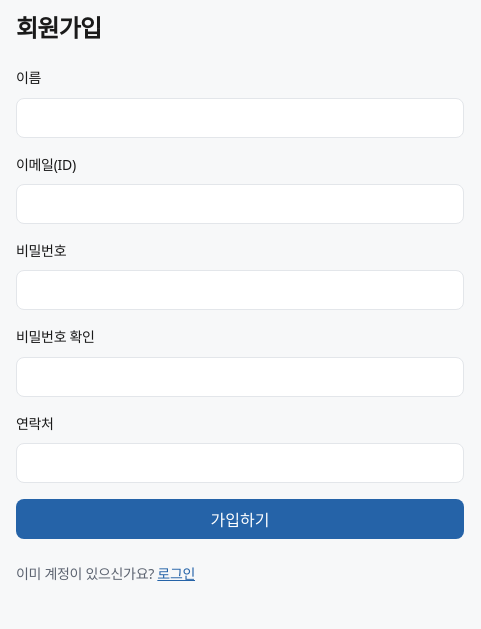
Test: 회원가입 폼 클라이언트 검증 › 이메일 형식이 틀리면 거부한다
This screenshot has width=481, height=629.
Step 1. Type "김색소" into the field labelled "이름" → (240, 118), box [16,98,464,138]
Step 2. Type "sax@example.com" into the field labelled "이메일(ID)" → (240, 204), box [16,184,464,224]
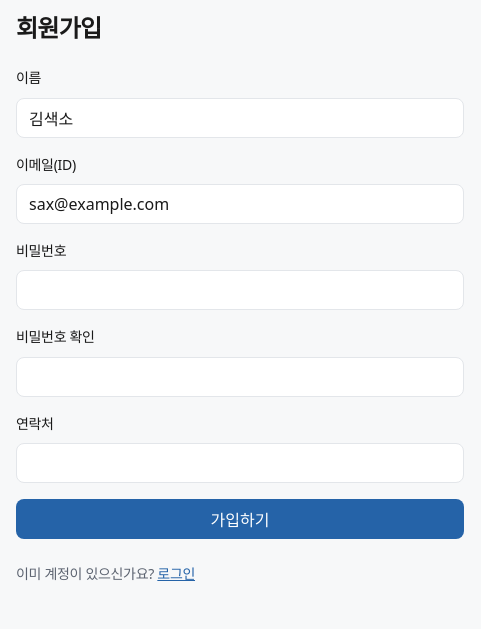
Step 3. Type "password123" into the password field labelled "비밀번호" → (240, 290), box [16,270,464,310]
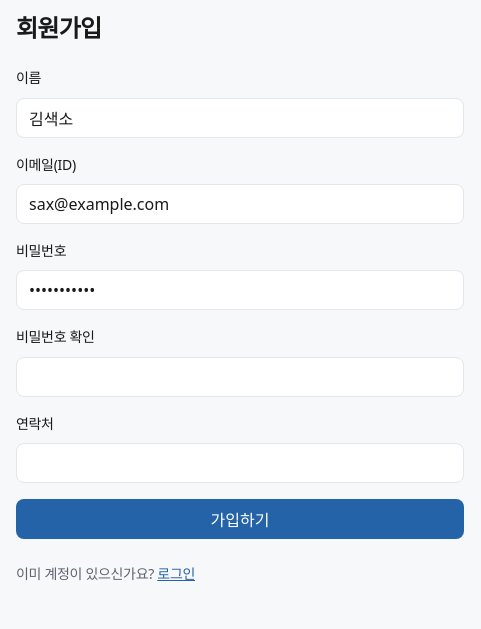
Step 4. Type "password123" into the password field labelled "비밀번호 확인" → (240, 377), box [16,357,464,397]
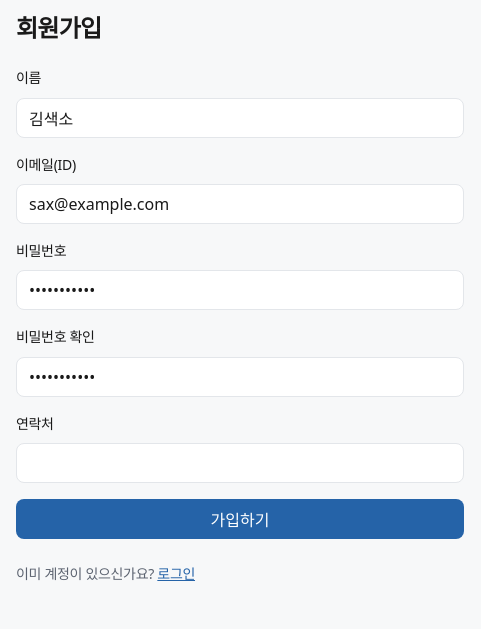
Step 5. Type "010-1234-5678" into the field labelled "연락처" → (240, 463), box [16,443,464,483]
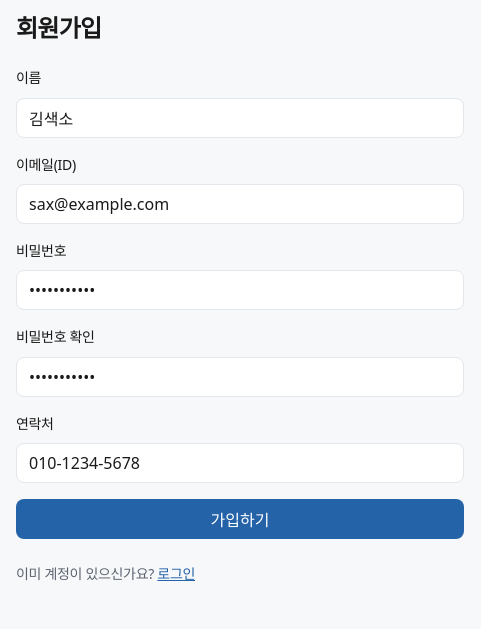
Step 6. Replace the text in the field labelled "이메일(ID)" with "sax@" → (240, 204), box [16,184,464,224]
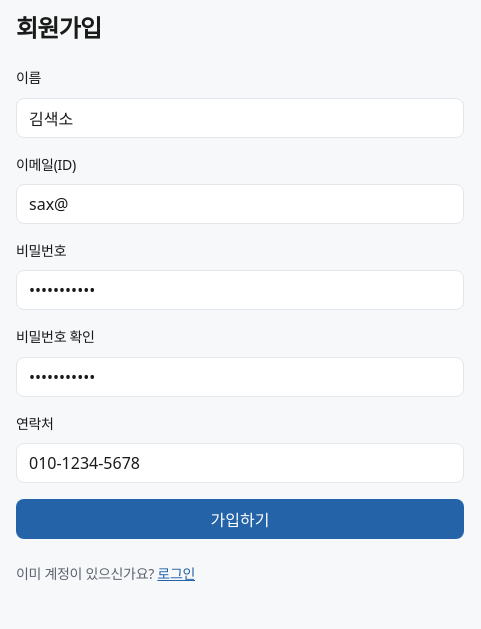
Step 7. Click the button "가입하기" → (240, 519), box [16,499,464,539]
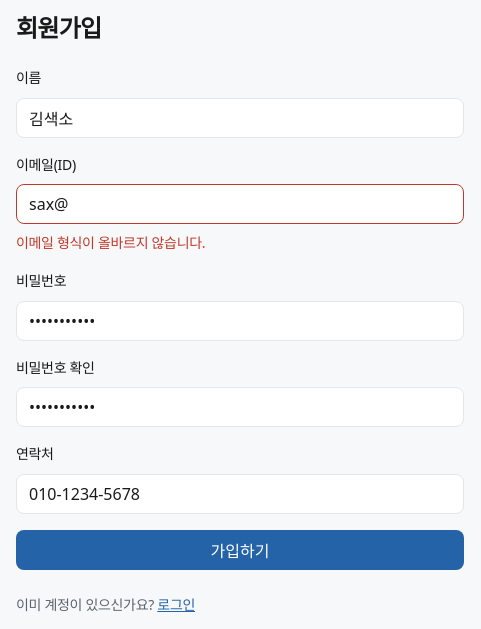
Now the text "이메일 형식이 올바르지 않습니다." is shown, box [16,233,205,252]
